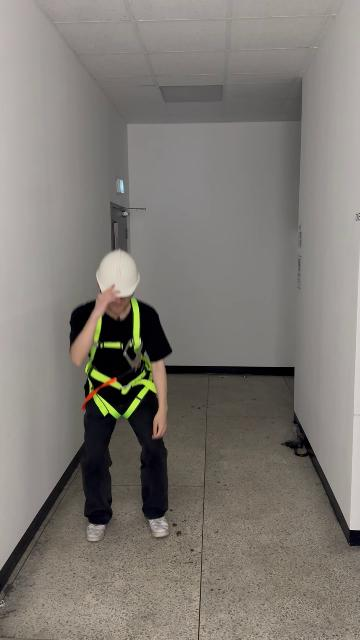helmet_worn: (95, 248, 142, 297)
shoe_not_worn: (147, 516, 169, 537), (86, 522, 107, 542)
vest_worn: (82, 299, 155, 419)
